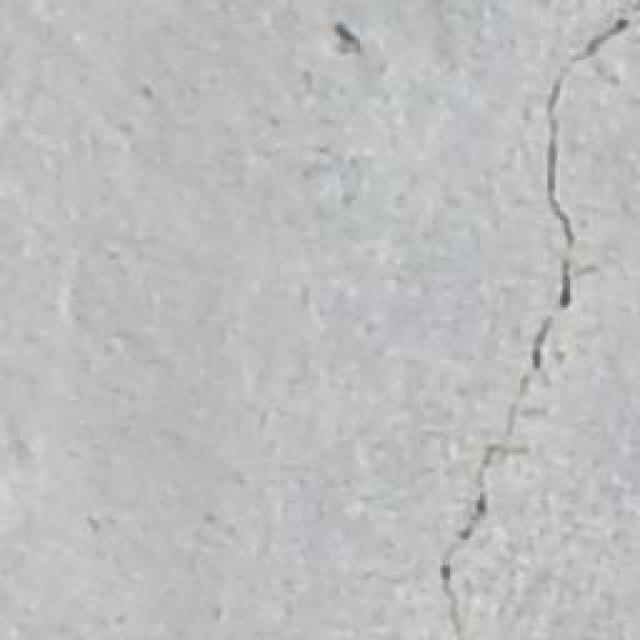concrete-crack: (438, 9, 636, 636)
